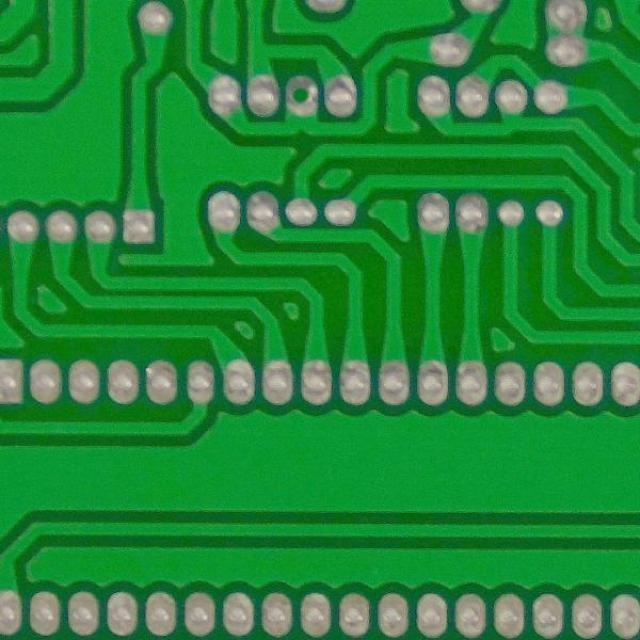Missing_Hole: (281, 74, 323, 118)
